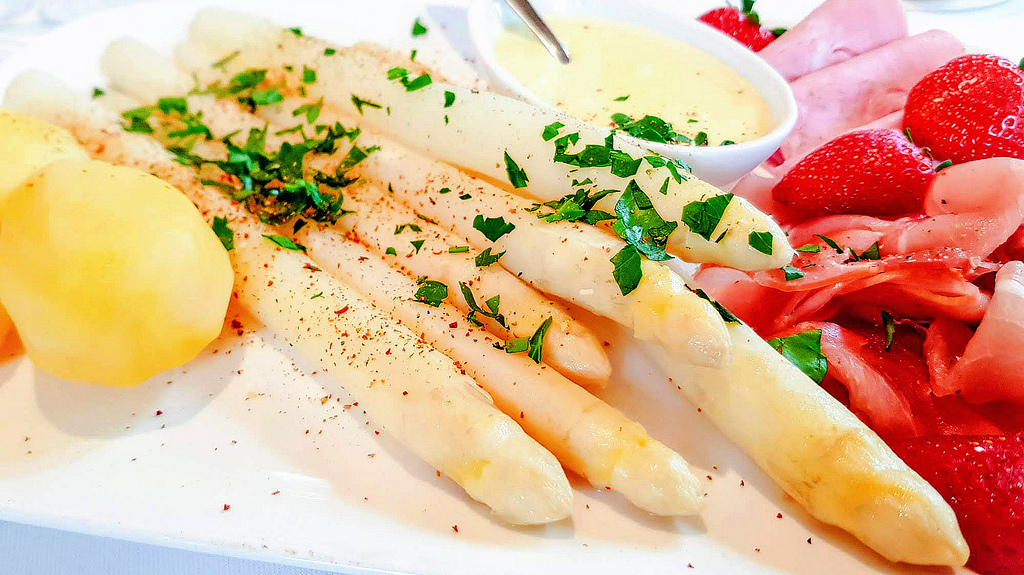boiled potatoes: (1, 162, 237, 377)
